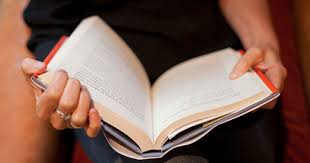Open Book: (33, 14, 279, 159)
